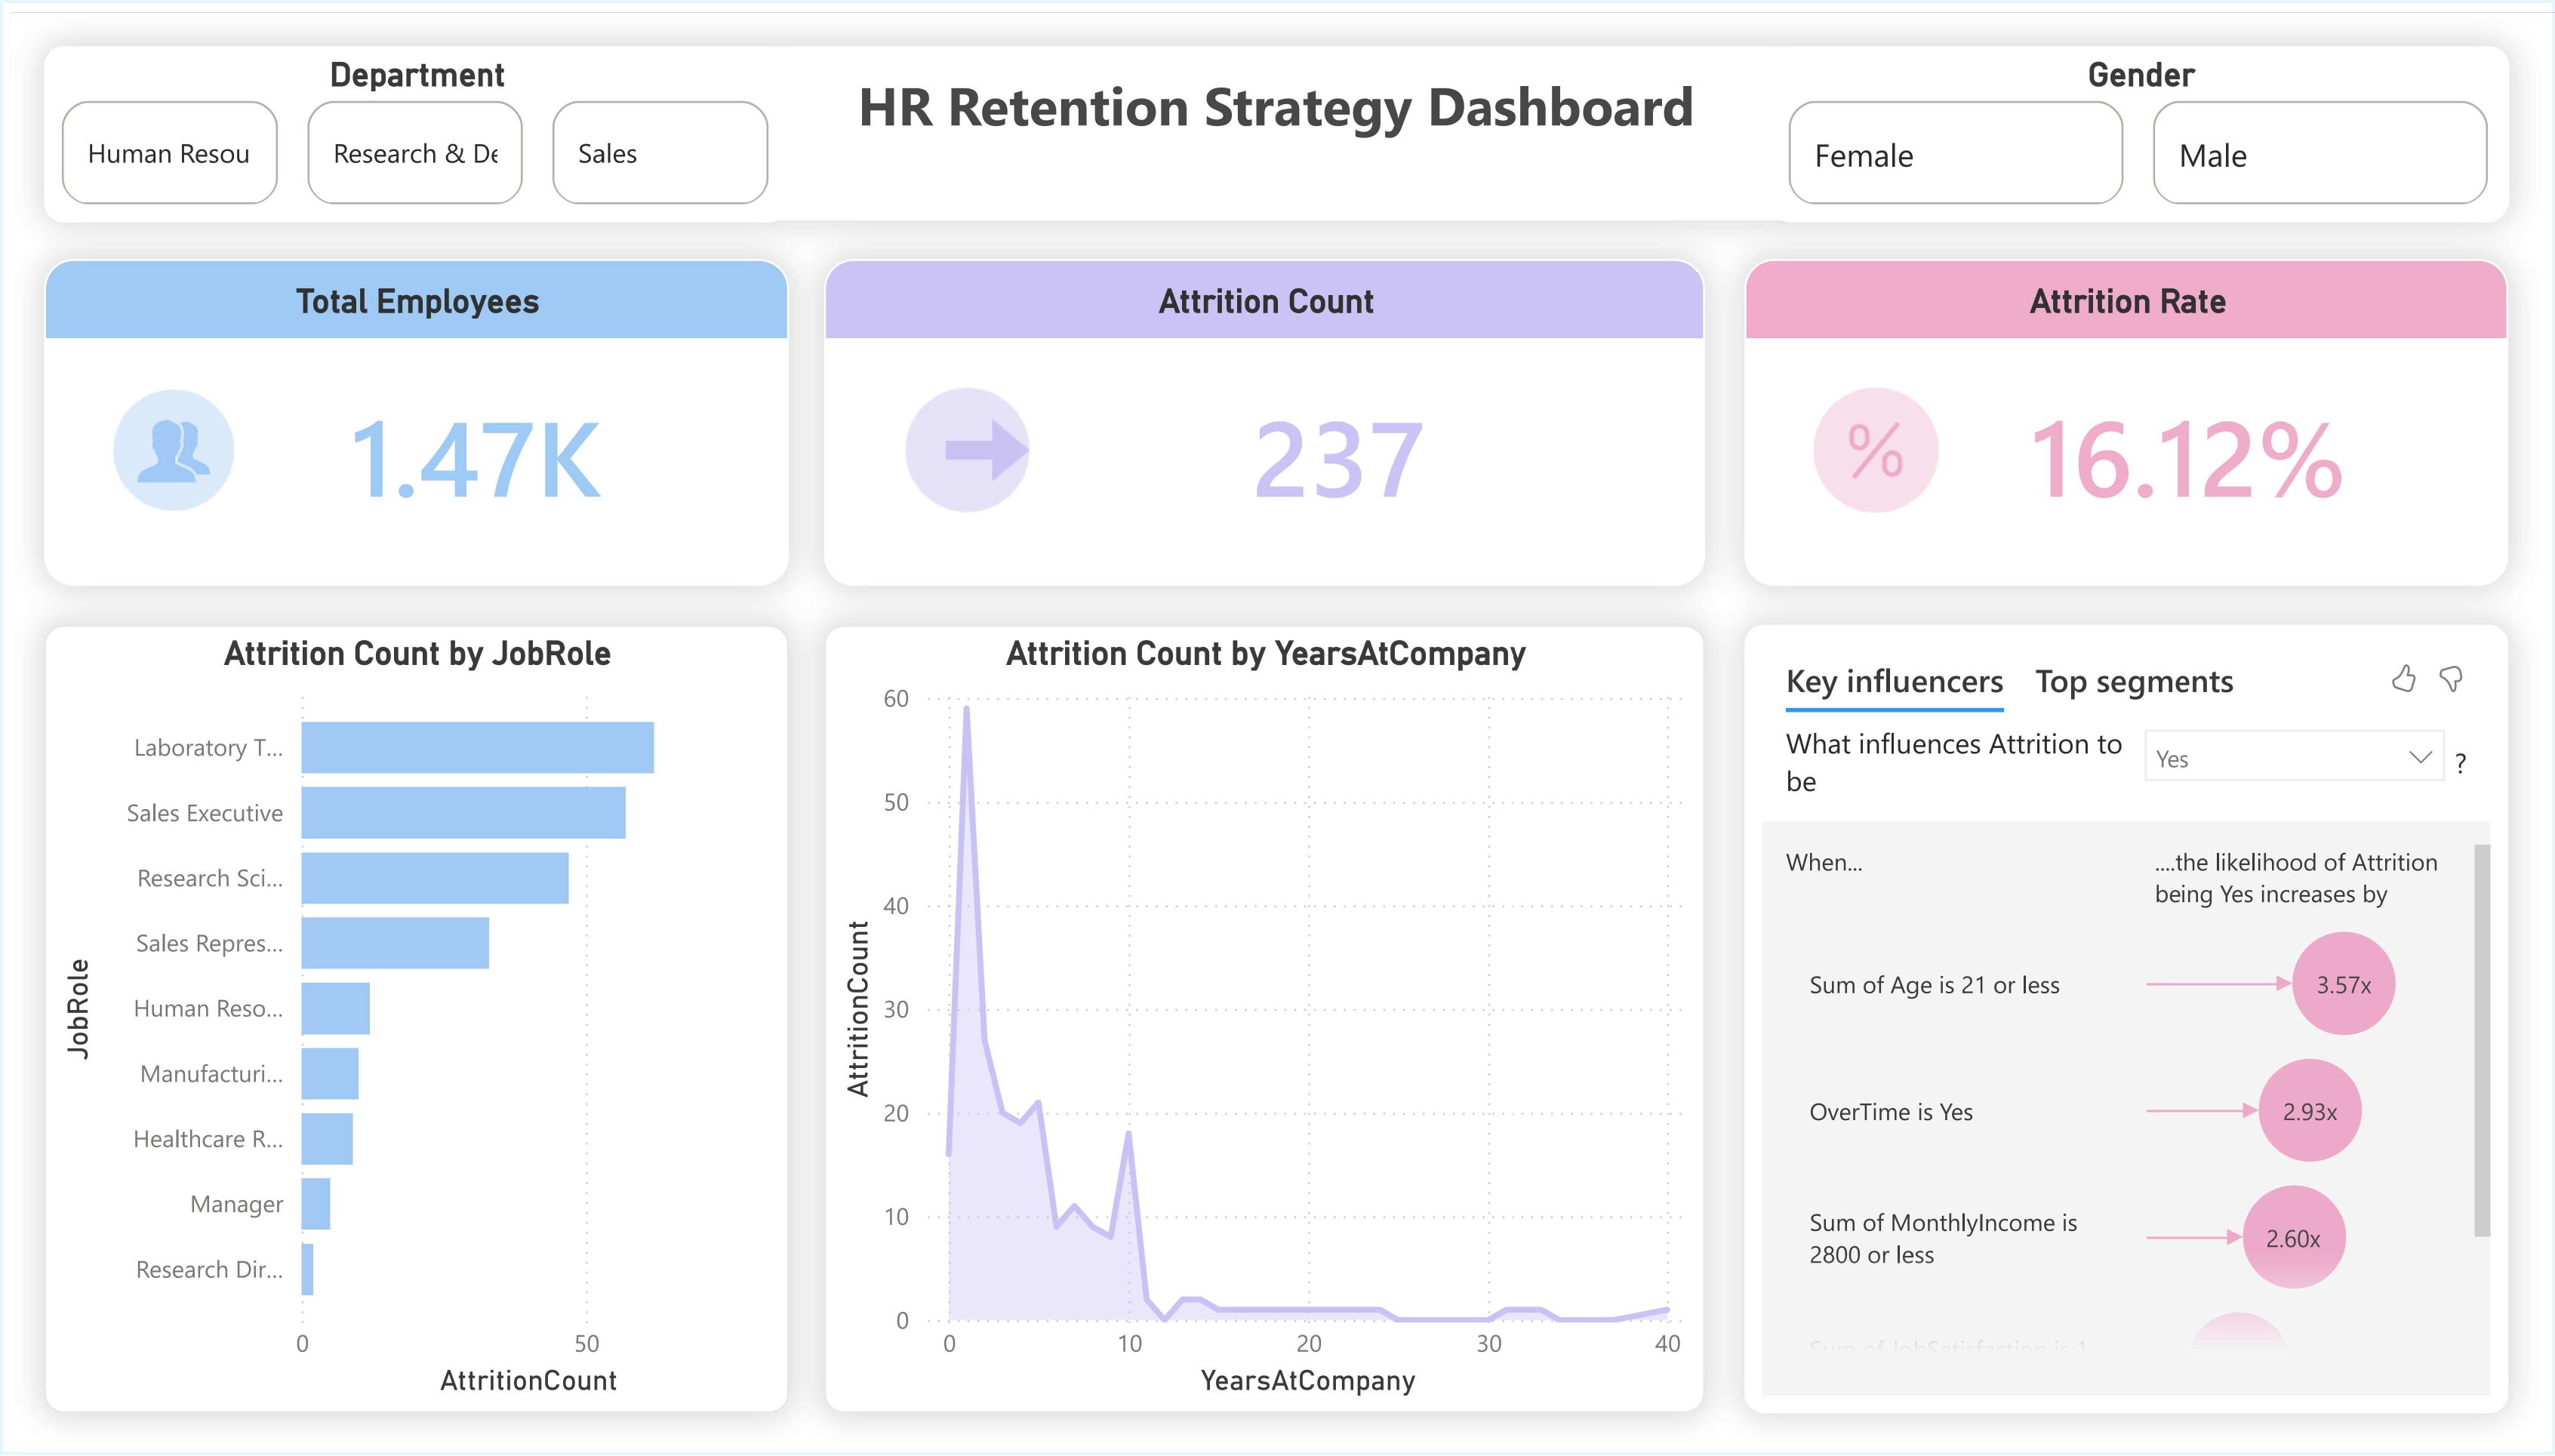

What the dashboard file says about the page in this screenshot:
{"tool":"powerbi","page":{"name":"HR-Analytics","canvas":[1280,720],"ordinal":0},"visuals":[{"type":"textbox","box":[16.7,16.7,1244.7,87.8],"z":0},{"type":"advancedSlicerVisual","fields":{"Values":["WA_Fn-UseC_-HR-Employee-Attrition.Department"]},"box":[16.7,16.7,375.5,89.3],"z":1000},{"type":"advancedSlicerVisual","fields":{"Values":["WA_Fn-UseC_-HR-Employee-Attrition.Gender"]},"box":[888.8,16.7,372.5,89.3],"z":2000},{"type":"cardVisual","title":"Total Employees","fields":{"Data":["_Key Measures.TotalEmployees"]},"box":[16.7,124.2,375.5,165],"z":3000},{"type":"cardVisual","title":"Attrition Count","fields":{"Data":["_Key Measures.AttritionCount"]},"box":[410.3,124.2,445.2,165],"z":4000},{"type":"cardVisual","title":"Attrition Rate","fields":{"Data":["_Key Measures.AttritionRate"]},"box":[875.2,124.2,386.1,165],"z":5000},{"type":"clusteredBarChart","title":"Attrition Count by JobRole","fields":{"Category":["WA_Fn-UseC_-HR-Employee-Attrition.JobRole"],"Y":["_Key Measures.AttritionCount"]},"box":[16.7,308.9,375.5,398.2],"z":6000},{"type":"areaChart","title":"Attrition Count by YearsAtCompany","fields":{"Category":["WA_Fn-UseC_-HR-Employee-Attrition.YearsAtCompany"],"Y":["_Key Measures.AttritionCount"]},"box":[410.3,308.9,445.2,398.2],"z":7000},{"type":"keyDriversVisual","fields":{"ExplainBy":["WA_Fn-UseC_-HR-Employee-Attrition.OverTime","Sum(WA_Fn-UseC_-HR-Employee-Attrition.Age)","Sum(WA_Fn-UseC_-HR-Employee-Attrition.JobSatisfaction)","Sum(WA_Fn-UseC_-HR-Employee-Attrition.MonthlyIncome)"],"Target":["WA_Fn-UseC_-HR-Employee-Attrition.Attrition"]},"box":[875.2,308.9,386.1,398.2],"z":8000}]}

Visuals, with their boxes in screenshot pixels (x1, y1, x2, y2), scaled from the page's 1280x720 canvas onto the 2555x1456 screenshot:
textbox: (33, 34, 2518, 211)
advancedSlicerVisual - WA_Fn-UseC_-HR-Employee-Attrition.Department: (33, 34, 783, 214)
advancedSlicerVisual - WA_Fn-UseC_-HR-Employee-Attrition.Gender: (1774, 34, 2518, 214)
"Total Employees" cardVisual: (33, 251, 783, 585)
"Attrition Count" cardVisual: (819, 251, 1707, 585)
"Attrition Rate" cardVisual: (1747, 251, 2518, 585)
"Attrition Count by JobRole" clusteredBarChart: (33, 625, 783, 1430)
"Attrition Count by YearsAtCompany" areaChart: (819, 625, 1707, 1430)
keyDriversVisual - WA_Fn-UseC_-HR-Employee-Attrition.OverTime x Sum(WA_Fn-UseC_-HR-Employee-Attrition.Age): (1747, 625, 2518, 1430)
